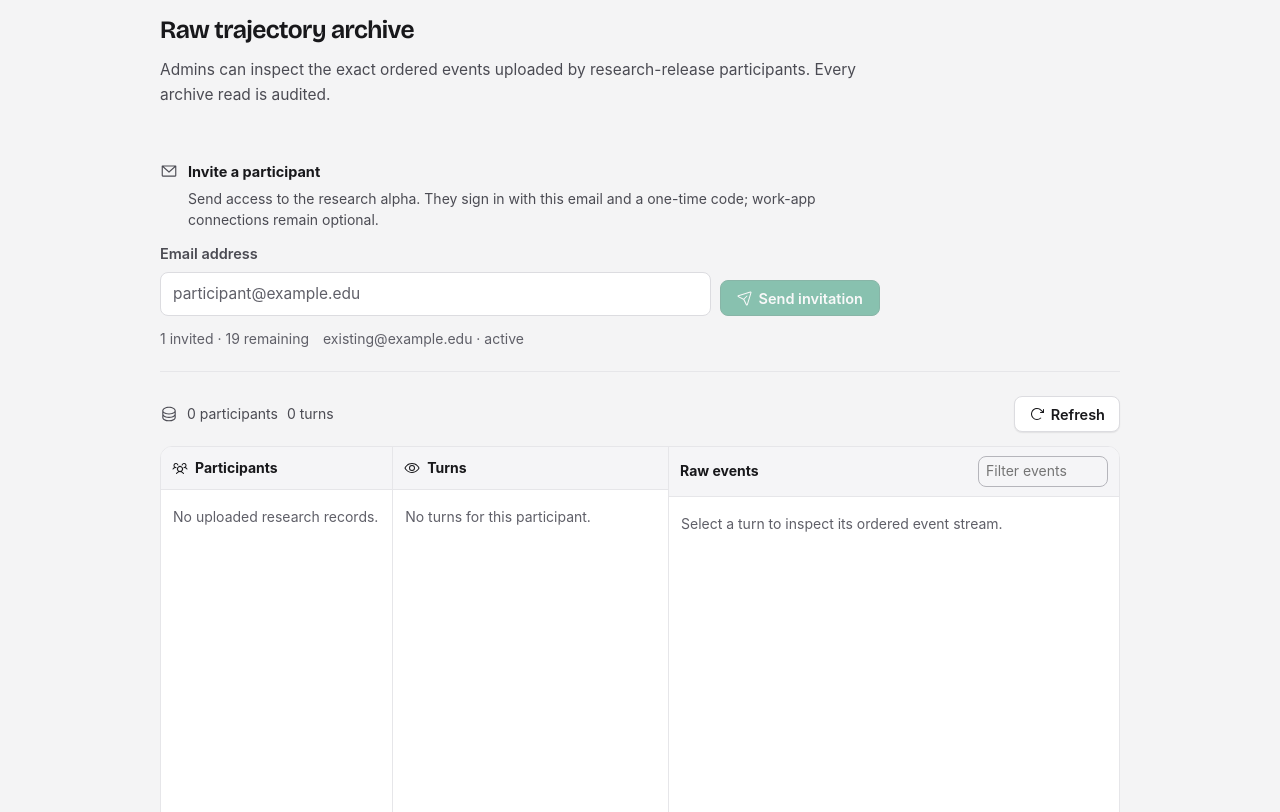
Scenario: raw research archive › lists invitations and sends a normalized participant invite
Expected: the text "existing@example.edu · active" is shown, top-left (323, 329), bottom-right (524, 350)
Type "  NEW.PERSON@EXAMPLE.EDU  " into the field labelled "Email address" at [435, 294], box top-left (160, 272), bottom-right (710, 316)
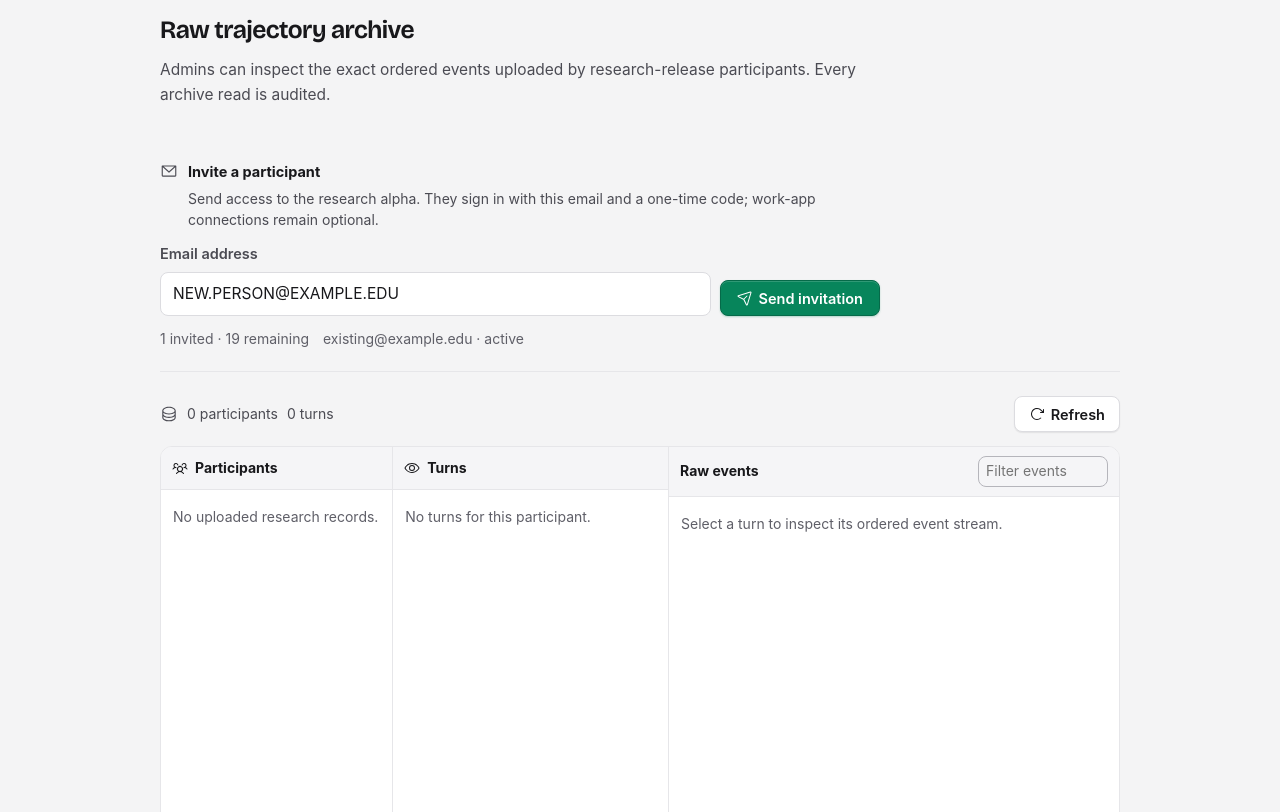
Click the button "Send invitation" at [800, 298], box top-left (720, 280), bottom-right (880, 316)
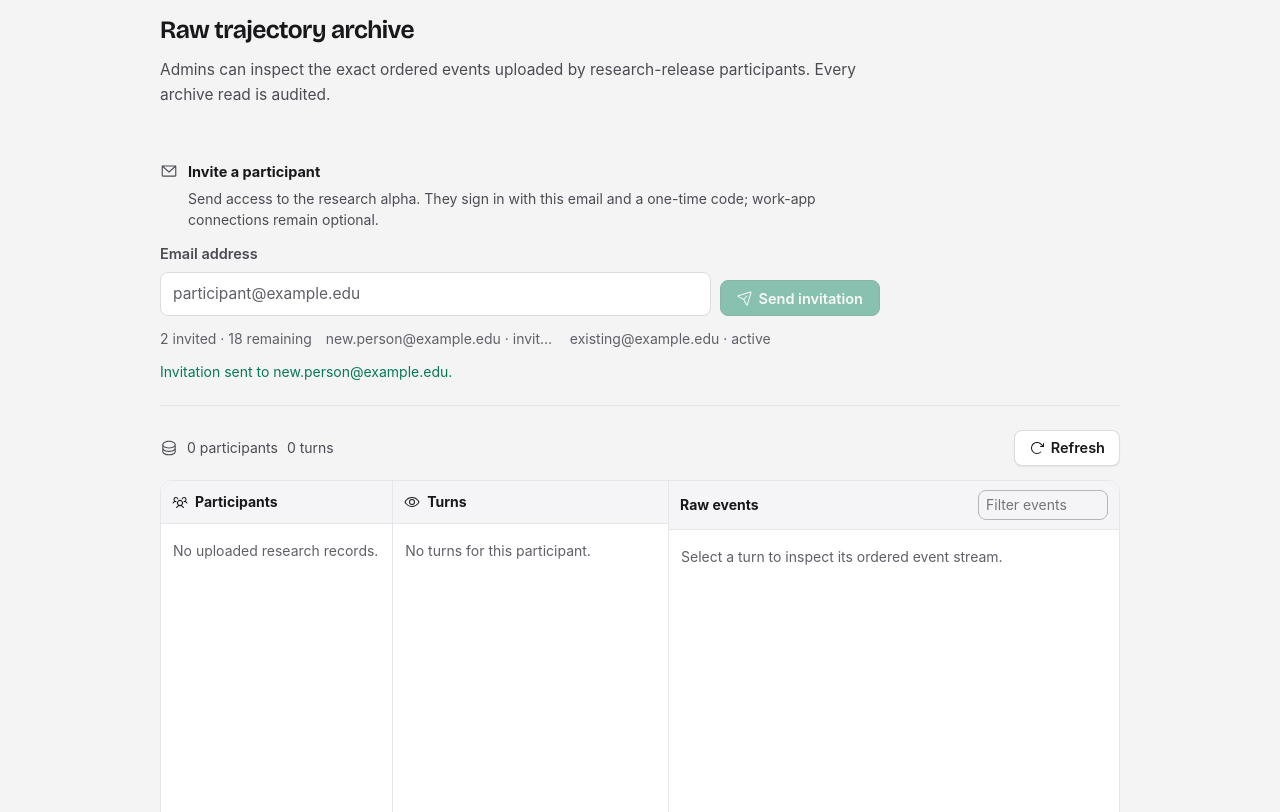
Result: the message reads "Invitation sent to new.person@example.edu." at top-left (160, 364), bottom-right (452, 380)
